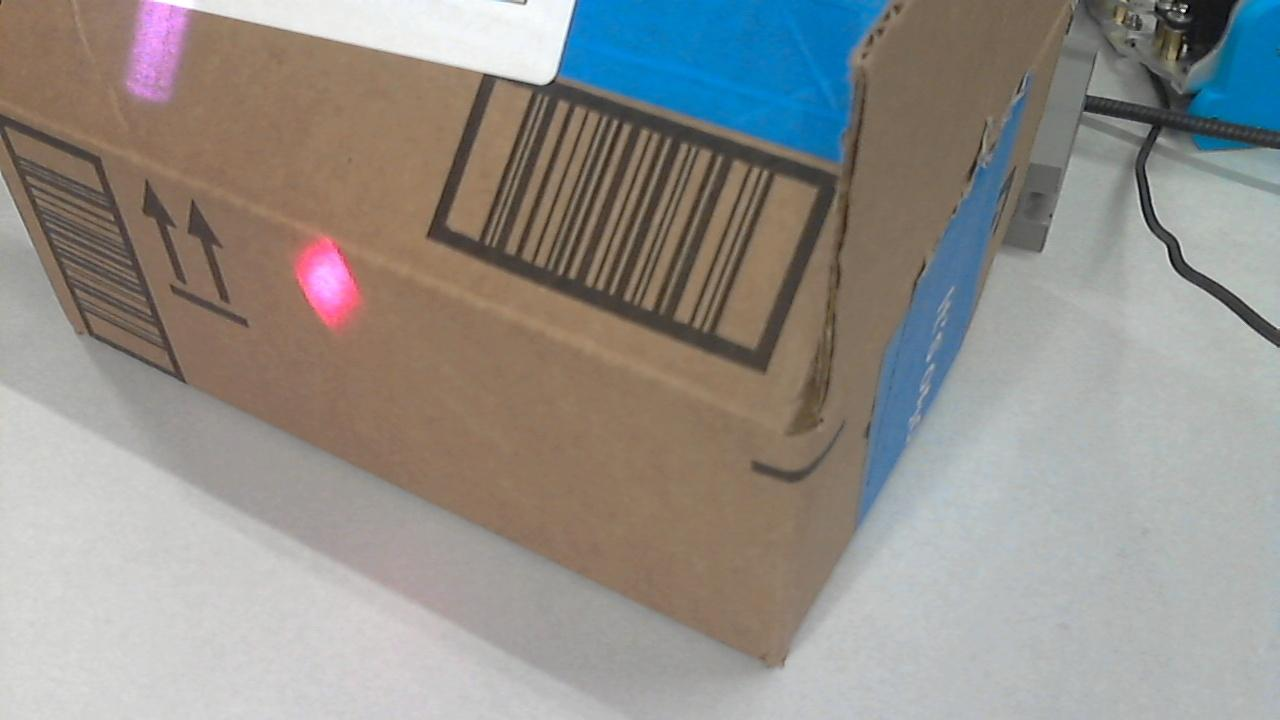Object cardboard shipping box - Material composite - Color brown - Pdfname OHMlP: (280, 218, 368, 339)
